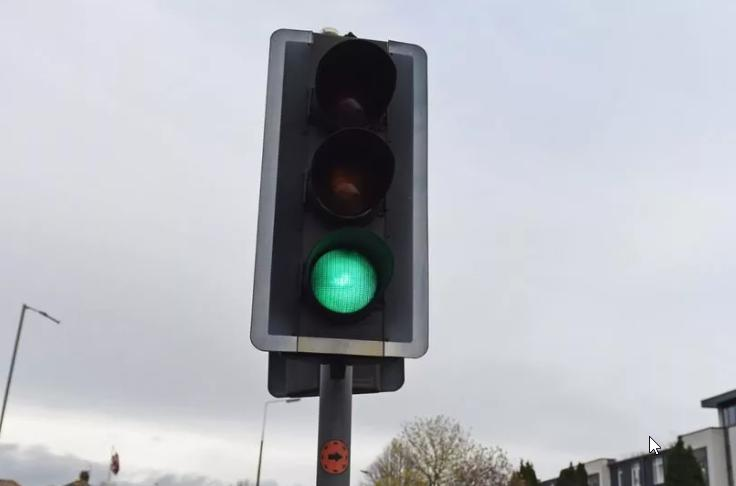green_light: (249, 28, 429, 359)
